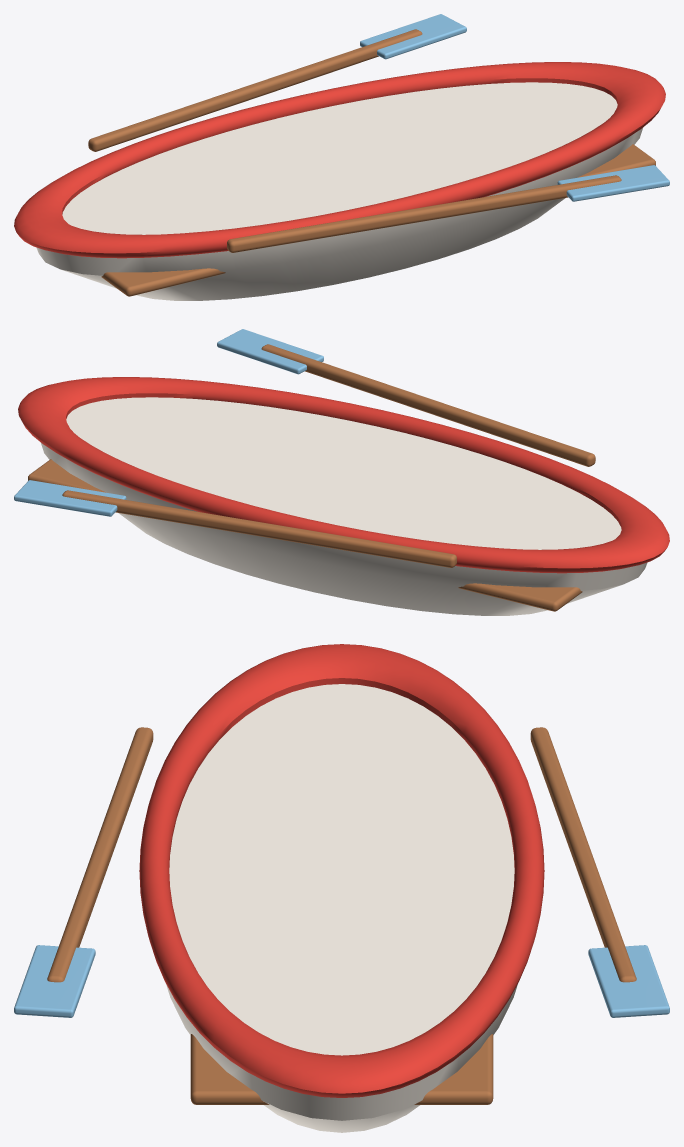
File: rowboat.glb
3 views of the same model, one above another, from view 1: azimuth 30°, elevation 25°; view 2: azimuth 150°, elevation 25°; view 3: azimuth 270°, elevation 25° (orthographic). The views are drawn at different scales.
Parts seen in each view (by area): view 1: rowboat; view 2: rowboat; view 3: rowboat.
Part boxes in pixels (bbox=[...]): rowboat: bbox=[14, 14, 669, 300]; rowboat: bbox=[14, 329, 669, 615]; rowboat: bbox=[14, 644, 669, 1132].
Bounding box in the file's own units: 3.48 × 0.5299 × 2.17.
1 material, 1 textured.
